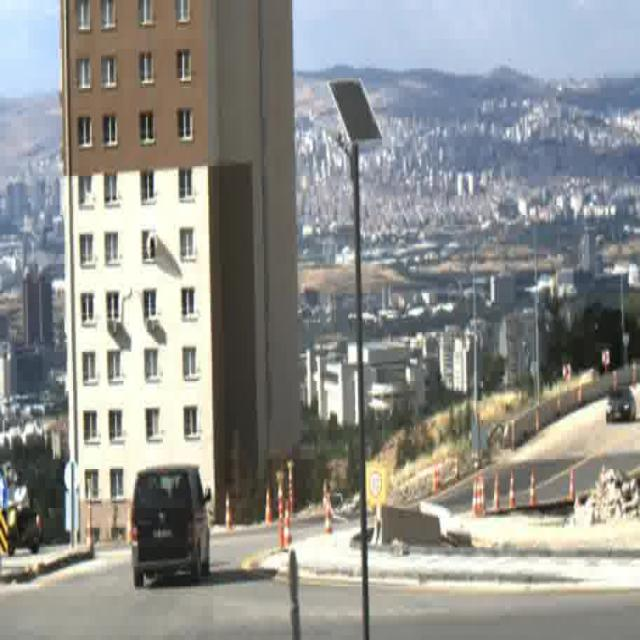Car: (131, 468, 211, 585), (603, 383, 636, 424)
Motorcycle: (7, 482, 41, 554)
